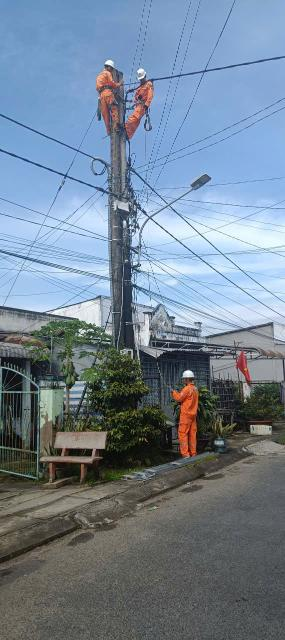harness: (96, 84, 117, 93), (133, 97, 147, 105)
helmet: (102, 58, 119, 71), (181, 368, 196, 380), (136, 68, 148, 81)
shoes: (178, 452, 193, 459), (116, 122, 126, 132)
